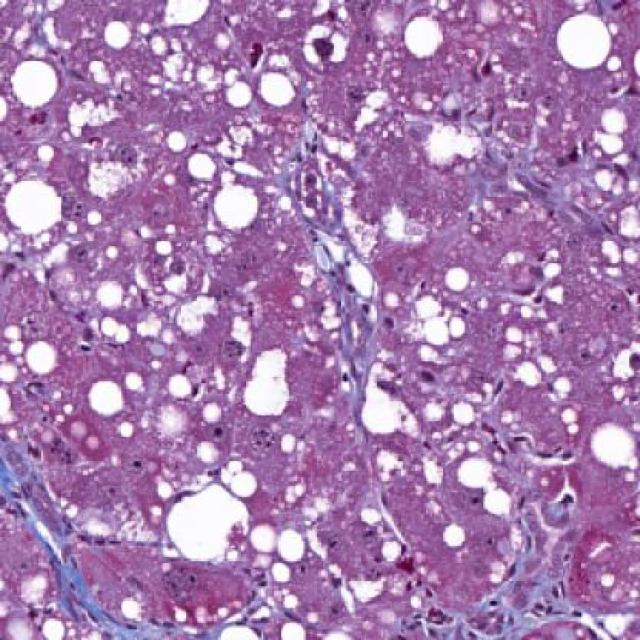fibrosis: (0, 452, 118, 619)
